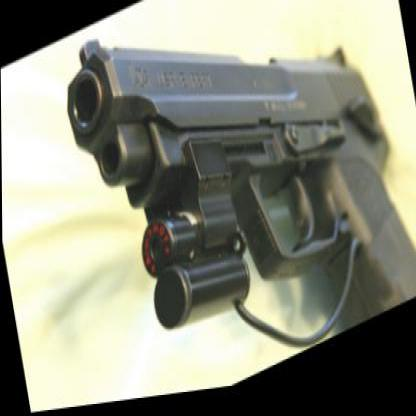pistol: (55, 0, 415, 408)
